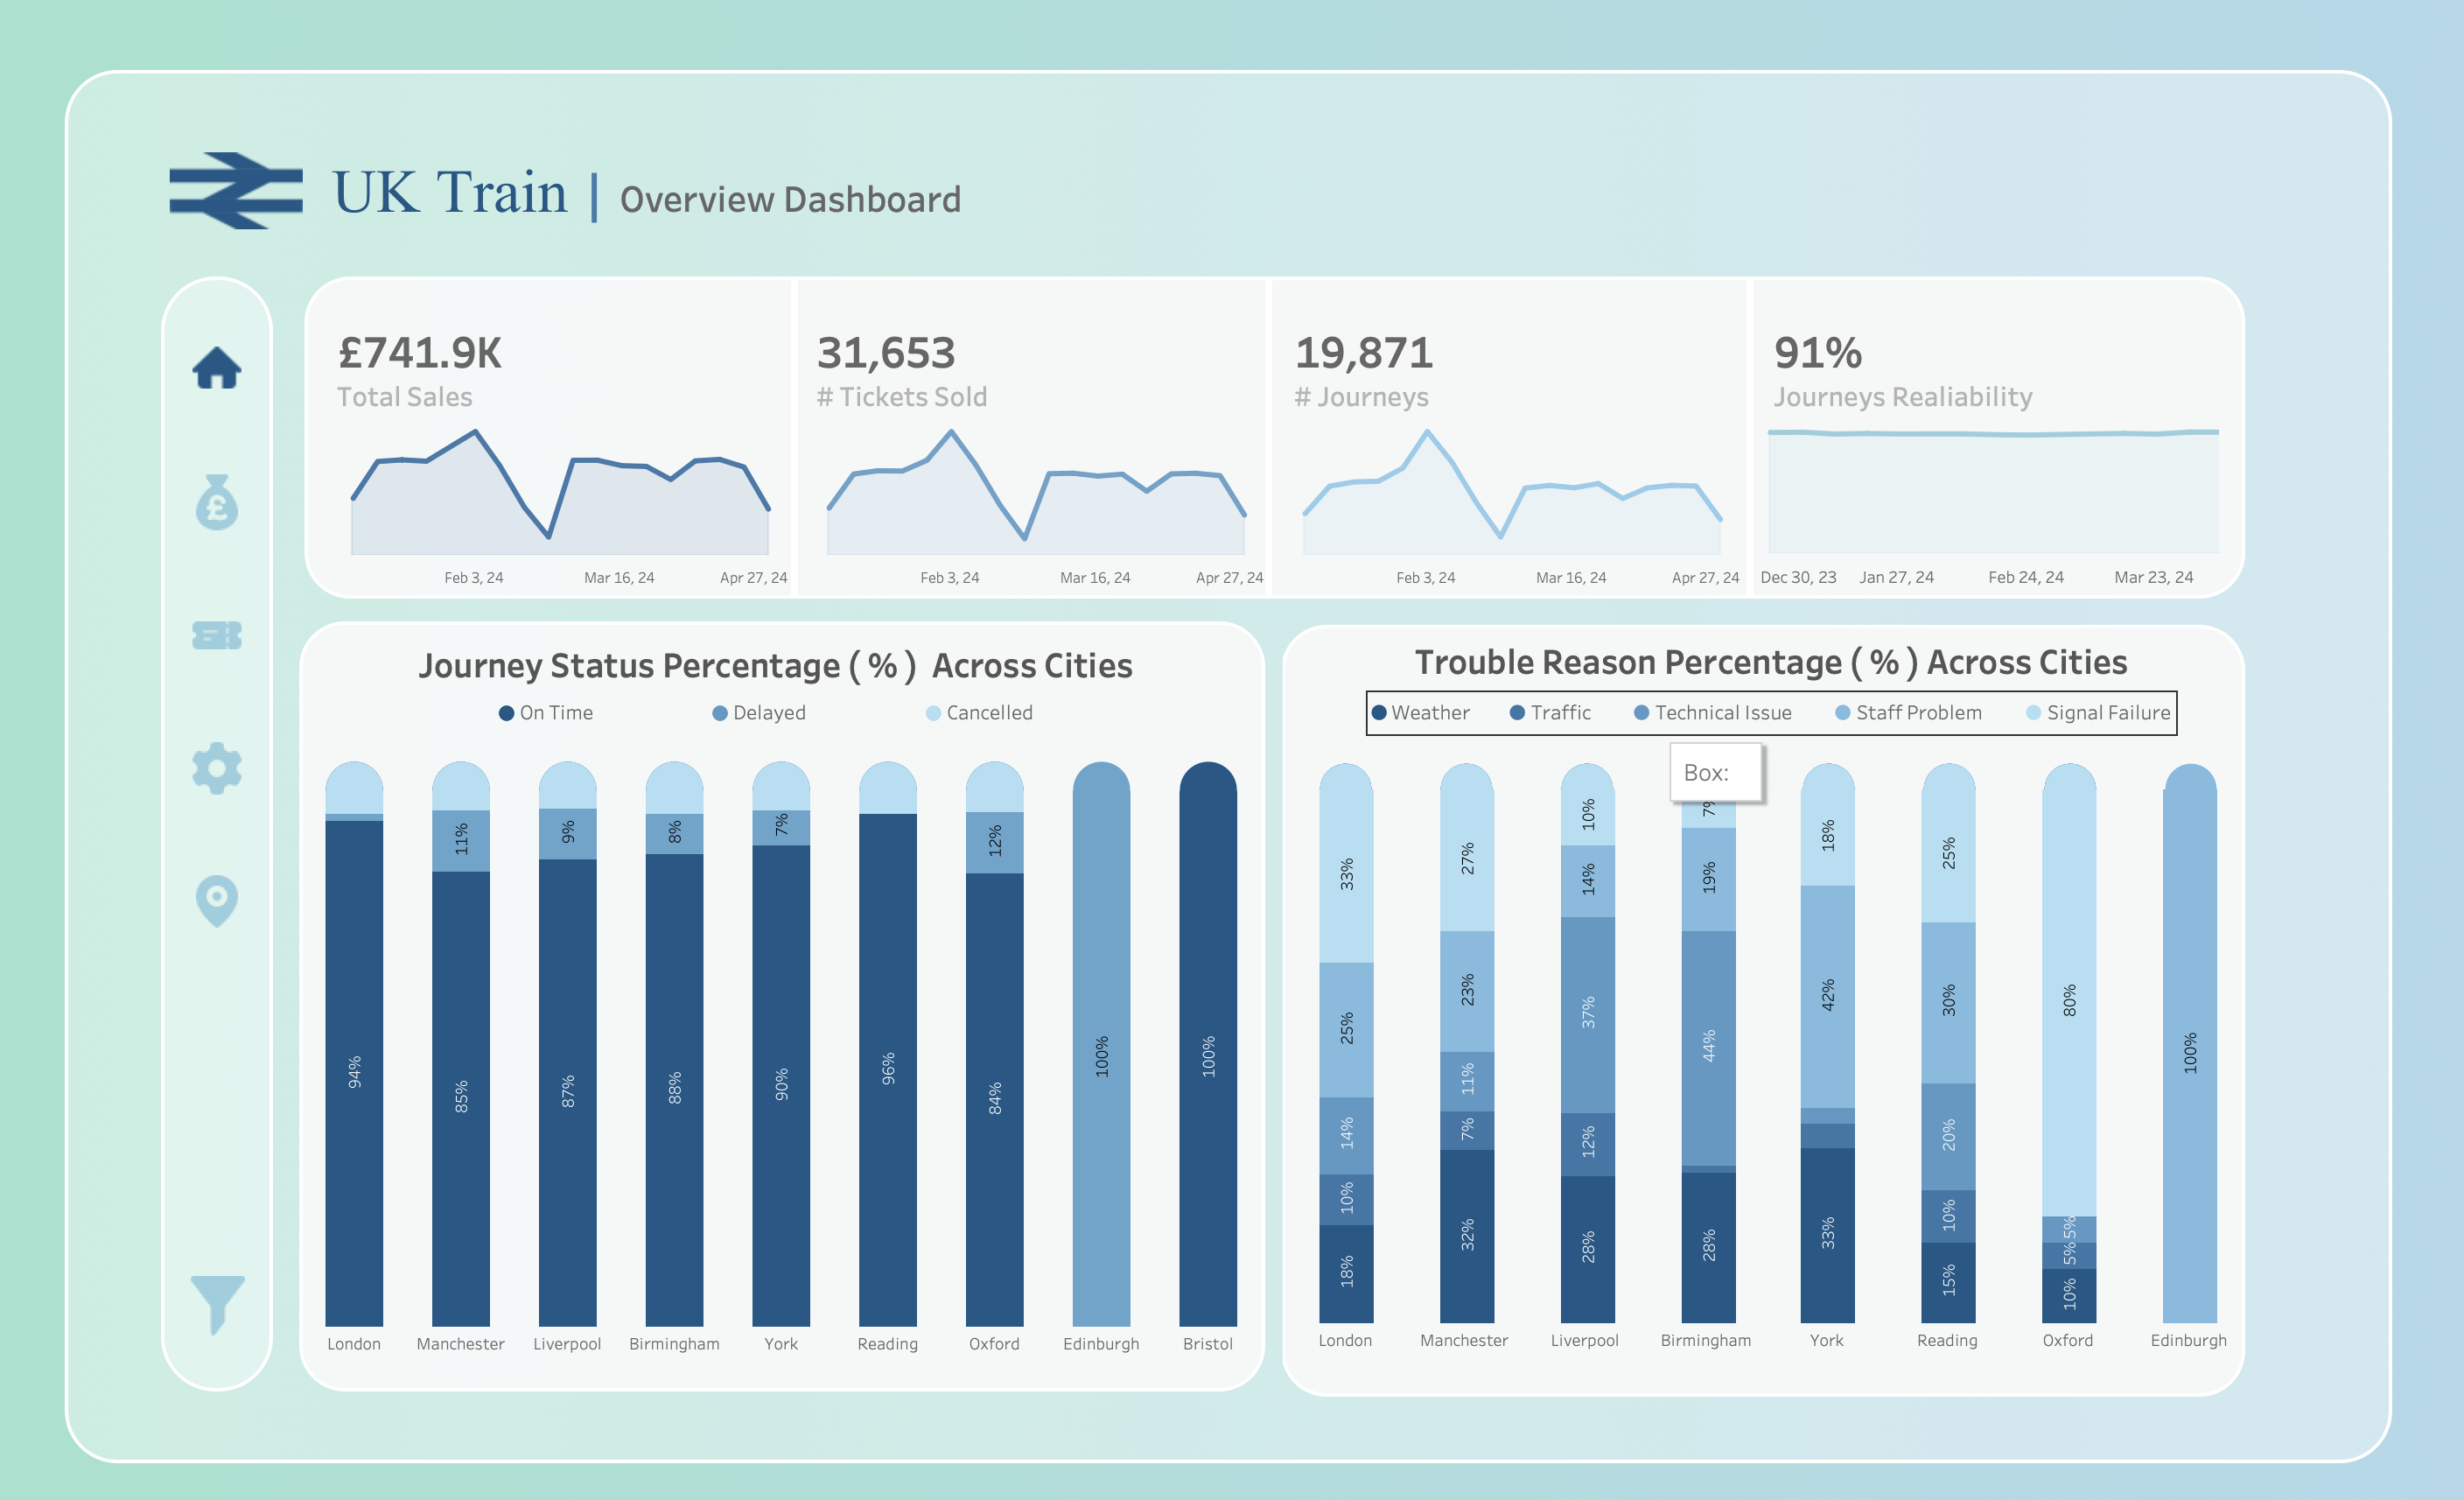

The dashboard page shown, as its layout file describes it:
{"tool":"tableau","page":{"name":"Overview Dashboard","canvas":[1400,860],"ordinal":4},"visuals":[{"type":"worksheet","title":"Home Filters","mark":"Automatic","box":[41,47,32,792]},{"type":"blank","box":[73,47,1294,792]},{"type":"image","param":"Image/Asset 1.png","box":[89,88,96,52]},{"type":"text","box":[185,88,446,52]},{"type":"blank","box":[631,88,383,52]},{"type":"worksheet","title":"box (3)","mark":"Automatic","box":[167,158,1127,194]},{"type":"image","param":"Image/Asset 11.png","box":[108,177,36,77]},{"type":"worksheet","title":"Home KPIs","mark":"Text","box":[181,177,1095,78]},{"type":"text","box":[168,203,170,44]},{"type":"worksheet","title":"H Sales Time line (2)","mark":"Automatic","rows":["Price","Price"],"cols":["Date_of_Purchase"],"box":[186,242,272,103]},{"type":"worksheet","title":"H Ticket Time line (2)","mark":"Automatic","rows":["Fact_Transaction.csv_51AF221E996F4D9DBE2EC6D17C0C7359","Fact_Transaction.csv_51AF221E996F4D9DBE2EC6D17C0C7359"],"cols":["Date_of_Purchase"],"box":[458,242,272,103]},{"type":"worksheet","title":"H Journey Time line (2)","mark":"Automatic","rows":["Dim_Journey.csv_D6F99A0B35A24A33A4A18A8E0BD5E0D4","Dim_Journey.csv_D6F99A0B35A24A33A4A18A8E0BD5E0D4"],"cols":["Date_of_Purchase"],"box":[730,242,272,103]},{"type":"worksheet","title":"H Realiability of Journeys","mark":"Automatic","rows":["Calculation_6625941711810560","Calculation_6625941711810560"],"cols":["Date_of_Purchase"],"box":[1002,242,272,103]},{"type":"filter","title":"Home Filters","param":"[federated.0brtjop1xmpmji1068fz80lkxfim].[mn:Date_of_Purchase:ok]","box":[168,247,170,52]},{"type":"dashboard-object","box":[108,254,36,76]},{"type":"filter","title":"Home Filters","param":"[federated.0brtjop1xmpmji1068fz80lkxfim].[none:Refund_Request:nk]","box":[168,299,170,52]},{"type":"dashboard-object","box":[108,330,36,76]},{"type":"filter","title":"Home Filters","param":"[federated.0brtjop1xmpmji1068fz80lkxfim].[none:Calculation_0696677097410594:nk]","box":[168,351,170,52]},{"type":"worksheet","title":"box (4)","mark":"Automatic","box":[167,352,564,456]},{"type":"worksheet","title":"box (6)","mark":"Automatic","box":[731,352,563,456]},{"type":"text","box":[743,364,543,37]},{"type":"text","box":[174,366,543,37]},{"type":"worksheet","title":"H Reson For Delay  Legend","mark":"Text","box":[781,398,467,29]},{"type":"worksheet","title":"H Journey Stutas Legend","mark":"Circle","cols":["Status","Calculation_0108657997389828","Calculation_0108657997381635"],"box":[230,399,366,27]},{"type":"filter","title":"Home Filters","param":"[federated.0brtjop1xmpmji1068fz80lkxfim].[none:Railcard:nk]","box":[168,403,170,52]},{"type":"dashboard-object","box":[108,406,36,76]},{"type":"worksheet","title":"H Journey Stutas Per City","mark":"Bar","rows":["Calculation_6842339588988932"],"cols":["Departure_City"],"box":[174,425,549,358]},{"type":"worksheet","title":"H Reason for Delay & Cancel Per City","mark":"Bar","rows":["Calculation_6842339592151046"],"cols":["Departure_City"],"box":[737,426,551,355]},{"type":"filter","title":"Home Filters","param":"[federated.0brtjop1xmpmji1068fz80lkxfim].[none:Payment_Method:nk]","box":[168,455,170,52]},{"type":"dashboard-object","box":[108,482,36,76]},{"type":"filter","title":"Home Filters","param":"[federated.0brtjop1xmpmji1068fz80lkxfim].[none:Purchase_Type:nk]","box":[168,507,170,52]},{"type":"blank","box":[108,558,36,76]},{"type":"filter","title":"Home Filters","param":"[federated.0brtjop1xmpmji1068fz80lkxfim].[none:Ticket_Class:nk]","box":[168,559,170,52]},{"type":"filter","title":"Home Filters","param":"[federated.0brtjop1xmpmji1068fz80lkxfim].[none:Ticket_Type:nk]","box":[168,611,170,52]},{"type":"blank","box":[108,634,36,76]},{"type":"blank","box":[168,663,170,47]},{"type":"blank","box":[108,710,36,76]},{"type":"worksheet","title":"Reset Filter","mark":"Automatic","box":[168,710,170,47]},{"type":"dashboard-object","box":[110,728,32,46]}]}

Visuals, with their boxes in screenshot pixels (x1, y1, x2, y2), scaled from the page's 1400x860 canvas onto the 2464x1500 screenshot:
"Home Filters" worksheet: locate(72, 82, 129, 1463)
blank: locate(129, 82, 2406, 1463)
image: locate(157, 153, 325, 244)
text: locate(325, 153, 1110, 244)
blank: locate(1110, 153, 1785, 244)
"box (3)" worksheet: locate(294, 276, 2278, 614)
image: locate(190, 309, 254, 443)
"Home KPIs" worksheet (Text marks): locate(318, 309, 2246, 445)
text: locate(296, 354, 595, 431)
"H Sales Time line (2)" worksheet: locate(327, 422, 806, 602)
"H Ticket Time line (2)" worksheet: locate(806, 422, 1284, 602)
"H Journey Time line (2)" worksheet: locate(1284, 422, 1763, 602)
"H Realiability of Journeys" worksheet: locate(1763, 422, 2243, 602)
"Home Filters" filter: locate(296, 431, 595, 522)
dashboard-object: locate(190, 443, 254, 576)
"Home Filters" filter: locate(296, 522, 595, 613)
dashboard-object: locate(190, 576, 254, 708)
"Home Filters" filter: locate(296, 613, 595, 703)
"box (4)" worksheet: locate(294, 614, 1286, 1409)
"box (6)" worksheet: locate(1286, 614, 2278, 1409)
text: locate(1307, 634, 2264, 699)
text: locate(306, 638, 1262, 703)
"H Reson For Delay  Legend" worksheet (Text marks): locate(1375, 694, 2196, 745)
"H Journey Stutas Legend" worksheet (Circle marks): locate(405, 696, 1049, 743)
"Home Filters" filter: locate(296, 703, 595, 794)
dashboard-object: locate(190, 708, 254, 841)
"H Journey Stutas Per City" worksheet (Bar marks): locate(306, 741, 1272, 1366)
"H Reason for Delay & Cancel Per City" worksheet (Bar marks): locate(1297, 743, 2267, 1363)
"Home Filters" filter: locate(296, 794, 595, 884)
dashboard-object: locate(190, 841, 254, 973)
"Home Filters" filter: locate(296, 884, 595, 975)
blank: locate(190, 973, 254, 1106)
"Home Filters" filter: locate(296, 975, 595, 1066)
"Home Filters" filter: locate(296, 1066, 595, 1156)
blank: locate(190, 1106, 254, 1238)
blank: locate(296, 1156, 595, 1238)
blank: locate(190, 1238, 254, 1371)
"Reset Filter" worksheet: locate(296, 1238, 595, 1321)
dashboard-object: locate(193, 1270, 250, 1350)
